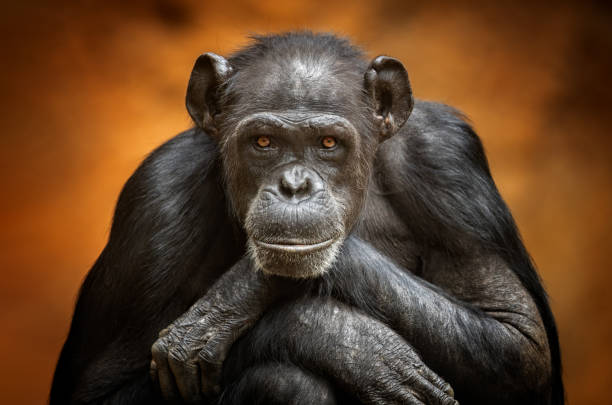chimpanzee: (167, 17, 438, 312)
